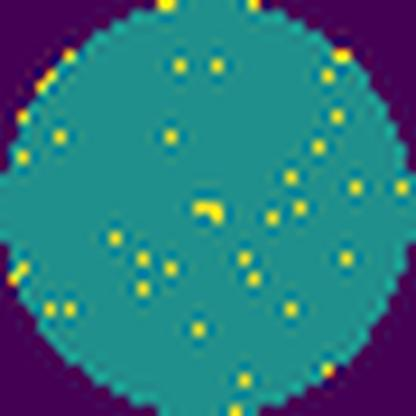Center: (191, 192, 233, 235)
